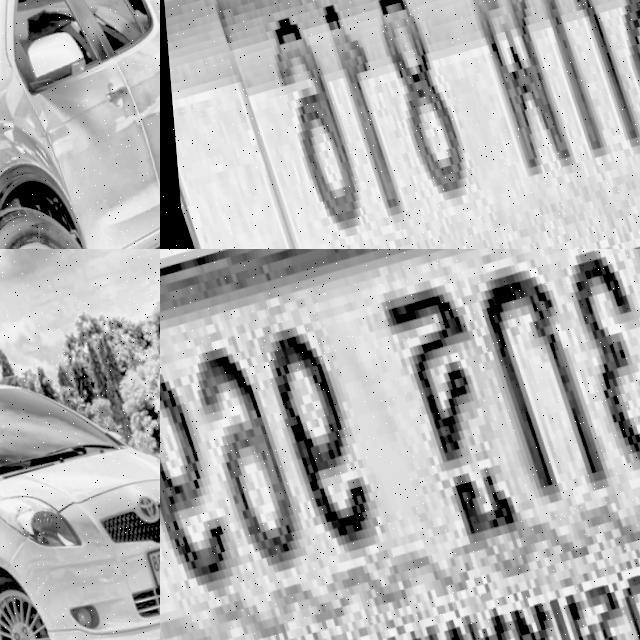license-plate: (160, 249, 640, 640), (160, 0, 640, 249), (129, 532, 160, 599)
